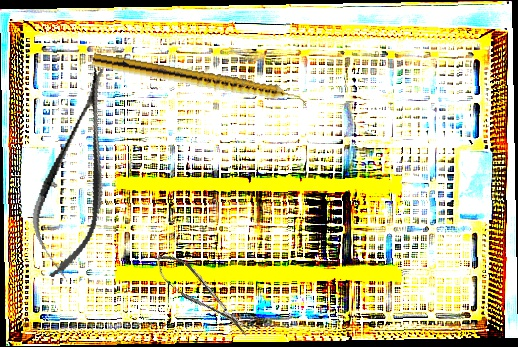Handpiece: (91, 52, 309, 109)
Micro Scissor: (18, 61, 135, 285), (148, 244, 256, 346)
